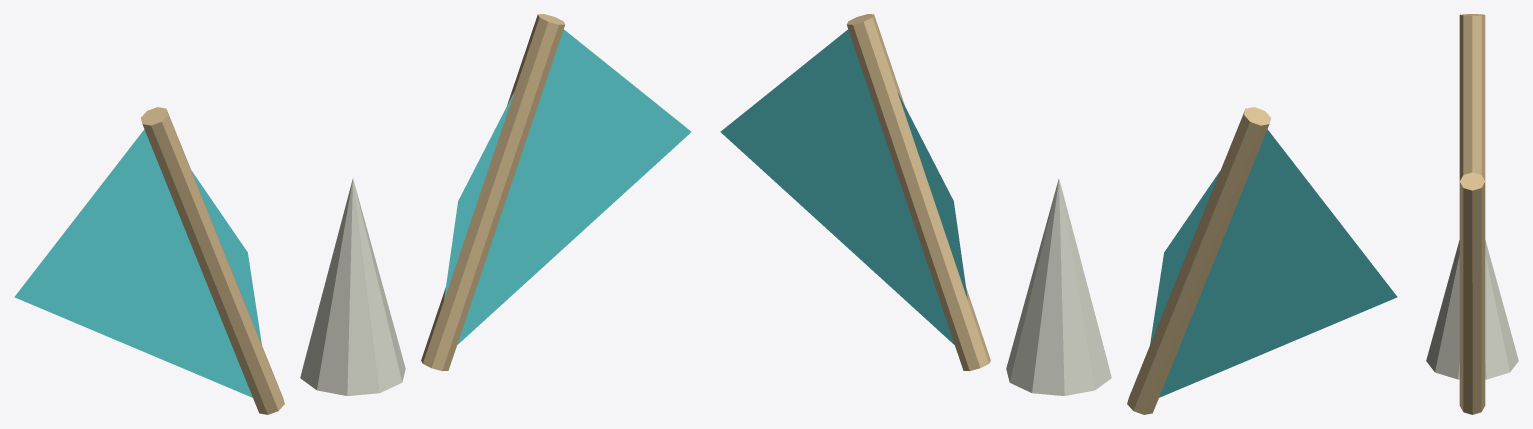
Rendered from architecture.glb.
3 renders of one model, left to right at view 1: azimuth 30°, elevation 25°; view 2: azimuth 150°, elevation 25°; view 3: azimuth 270°, elevation 25°, orthographic. The views are drawn at different scales.
Visible parts, largest first — view 1: nerids roof silhouette; view 2: nerids roof silhouette; view 3: nerids roof silhouette.
Part boxes in pixels (box(x1,y1,x2,y2)): nerids roof silhouette: box(14, 14, 691, 414); nerids roof silhouette: box(720, 14, 1397, 414); nerids roof silhouette: box(1426, 14, 1518, 414).
Bounding box in the file's own units: 2.9 × 1.34 × 0.4.
